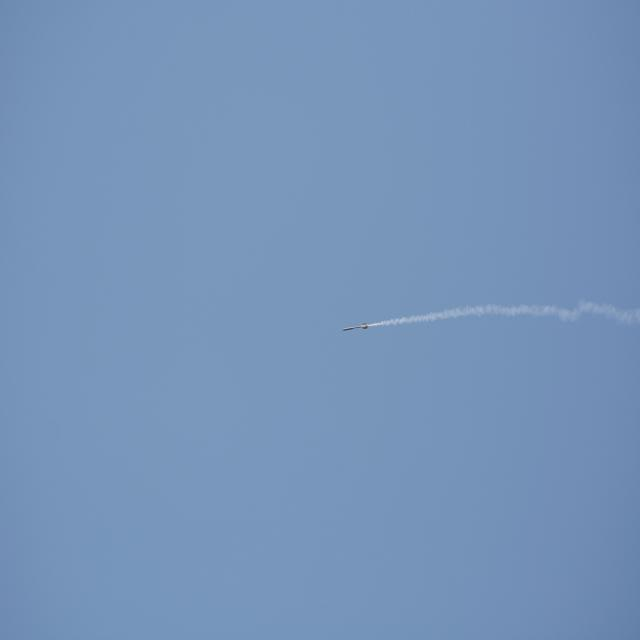Rocket: (342, 323, 369, 331)
